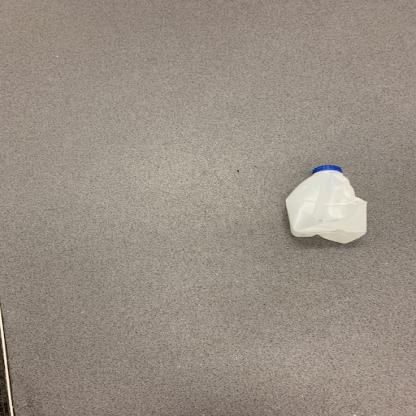trash: (282, 162, 375, 249)
